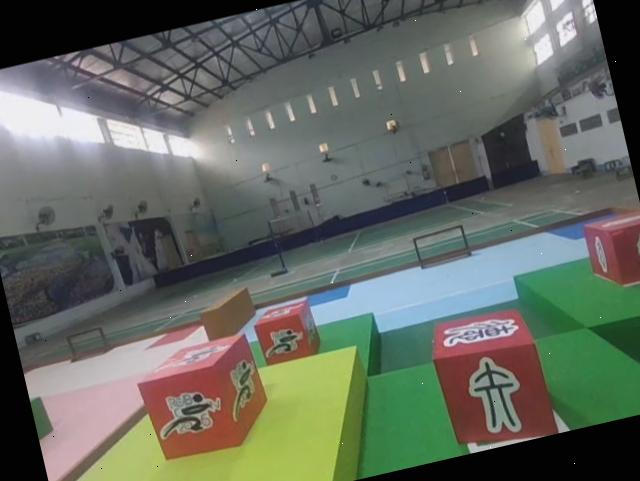R1: (127, 330, 274, 465), (248, 296, 326, 370)
R2 Fake: (420, 300, 560, 458)
R2 Real: (576, 205, 640, 296)
